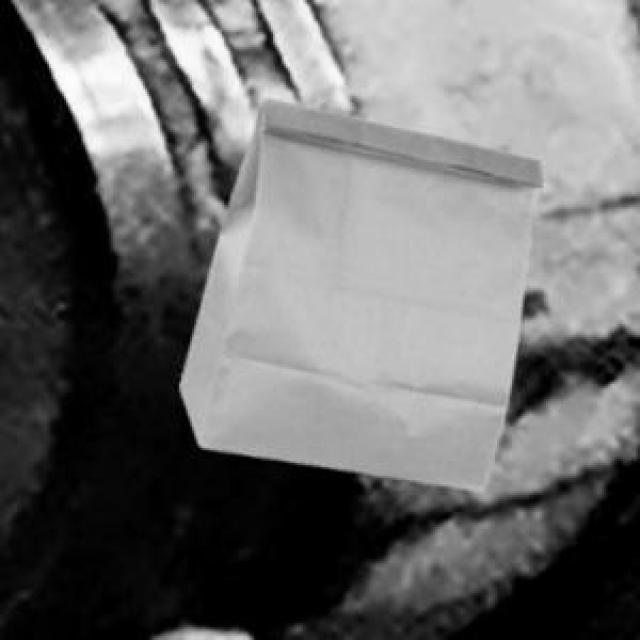paper: (177, 94, 540, 486)
